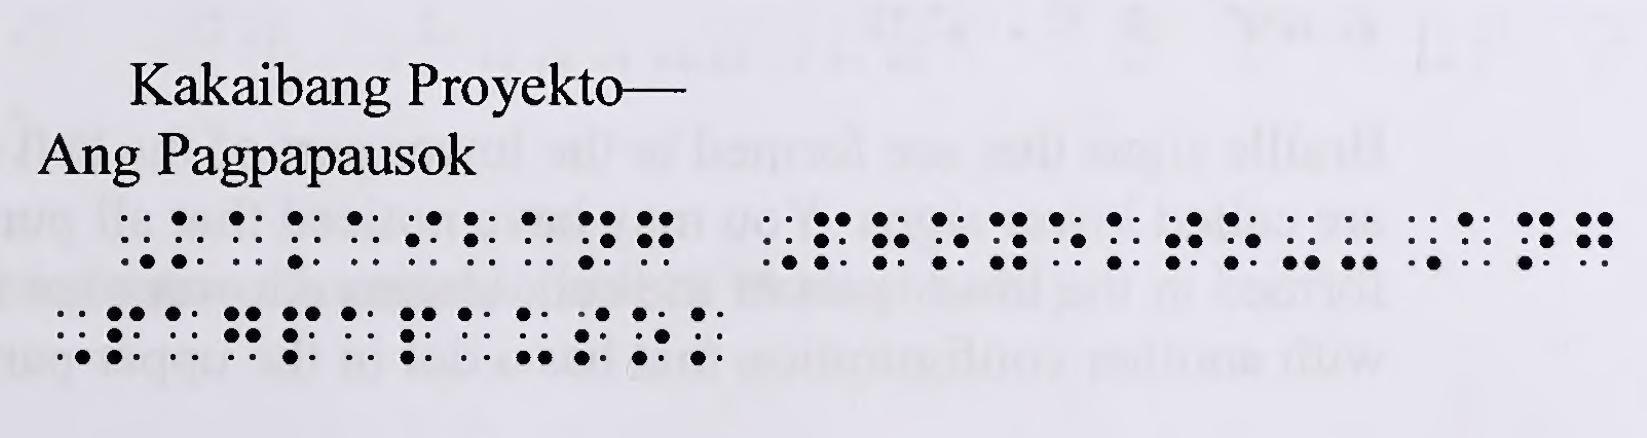A: (1457, 209, 1494, 272)
K: (170, 210, 205, 272)
P: (105, 303, 145, 366), (812, 209, 852, 271)
a: (337, 305, 379, 367), (226, 210, 266, 272), (455, 305, 493, 367), (346, 210, 382, 270), (522, 210, 557, 270), (166, 305, 201, 364)
b: (465, 209, 499, 265)
capital: (53, 306, 90, 372), (1405, 210, 1441, 276), (117, 212, 155, 272), (762, 212, 798, 271)
e: (1047, 212, 1086, 271)
g: (223, 305, 265, 366), (1576, 210, 1615, 272), (636, 212, 675, 271)
i: (405, 207, 444, 269)
k: (687, 305, 728, 368), (1106, 209, 1146, 272), (287, 209, 323, 271)
n: (1515, 210, 1559, 271), (579, 210, 618, 271)
o: (1223, 209, 1261, 275), (630, 305, 668, 369), (932, 209, 971, 270)
p: (397, 305, 438, 367), (283, 303, 321, 367)
r: (873, 207, 908, 275)
s: (573, 303, 612, 368)
t: (1165, 212, 1203, 271)
u: (515, 305, 556, 366)
y: (989, 209, 1028, 272)
